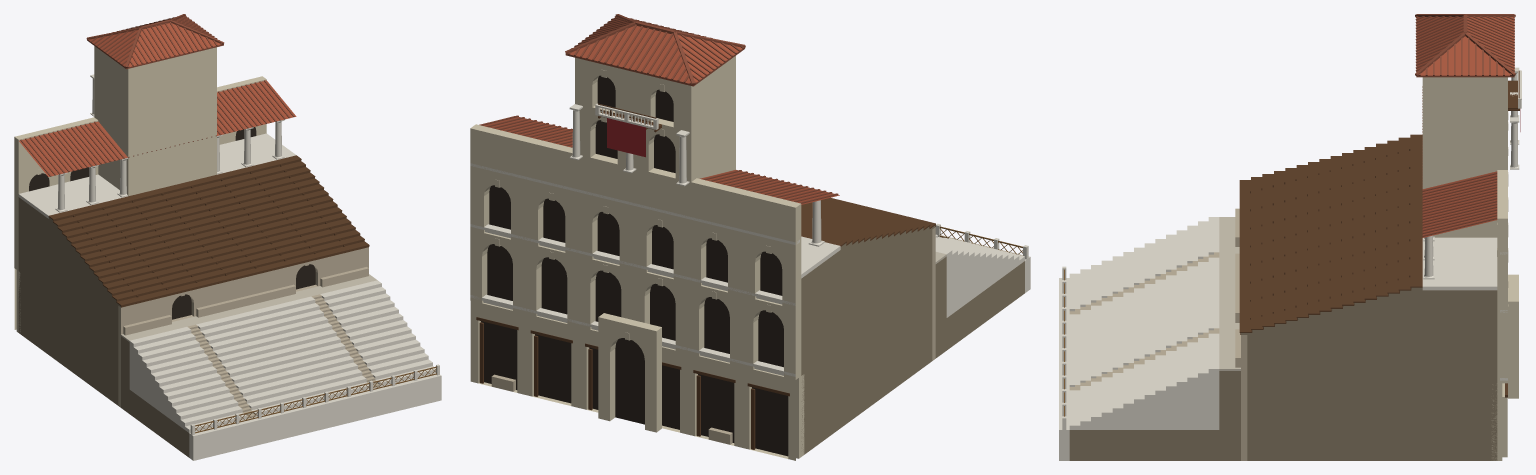
Rendered from rome_cavea_pavilion.glb.
3 renders of one model, left to right at view 1: azimuth 30°, elevation 25°; view 2: azimuth 150°, elevation 25°; view 3: azimuth 270°, elevation 25°, orthographic. The views are drawn at different scales.
Parts seen in each view (by area): view 1: rome_cavea_pavilion; view 2: rome_cavea_pavilion; view 3: rome_cavea_pavilion.
Part boxes in pixels (x1,y1,x2,y2): rome_cavea_pavilion: (14,14,441,460); rome_cavea_pavilion: (470,14,1030,460); rome_cavea_pavilion: (1059,14,1521,460).
Size of the model in its own units: 33.6 by 37.33 by 43.29.
